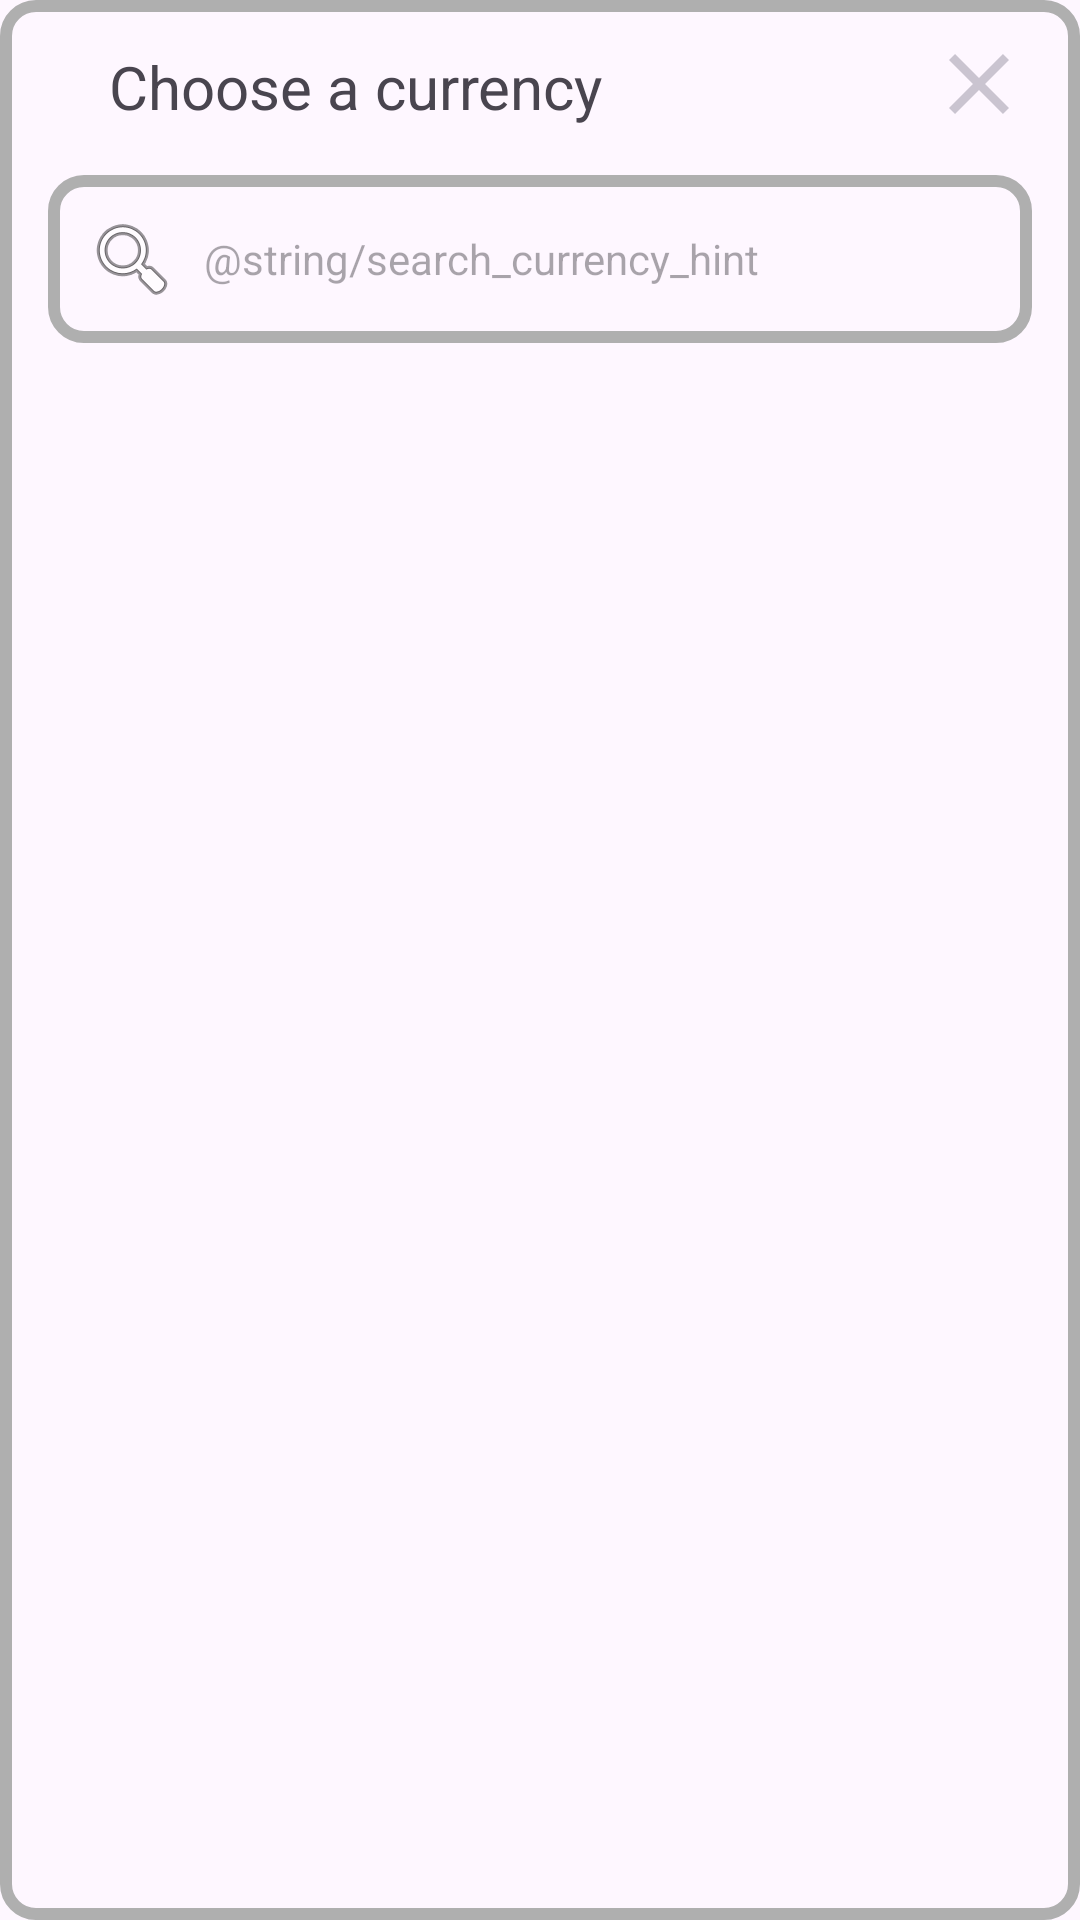

Named icons in this screenshot (1080 x 1920) and their bounding boxes, [x1, y1, x2, y2]:
close window: [949, 54, 1009, 114]
